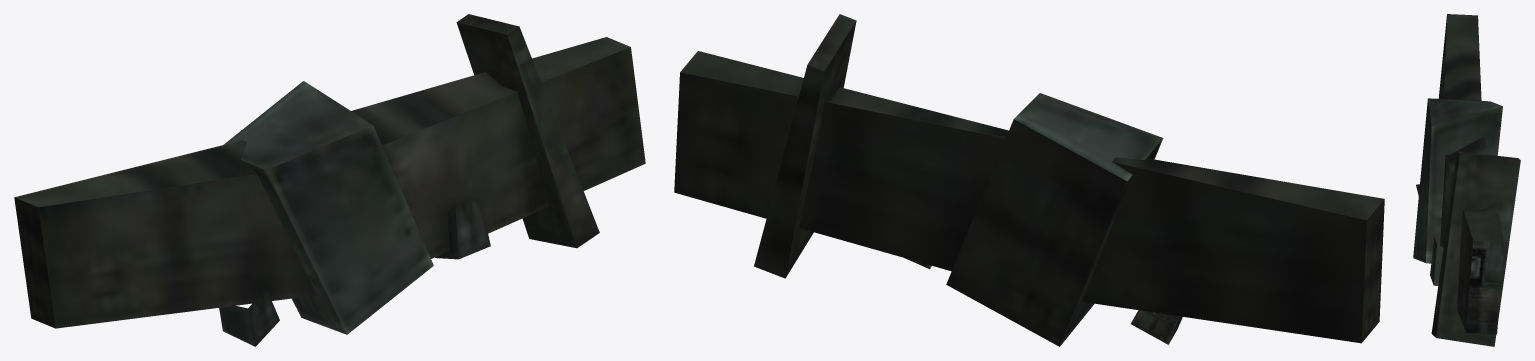
The model's file is vehicle_uni_carrier_blow_piece04.glb.
3 renders of one model, left to right at view 1: azimuth 30°, elevation 25°; view 2: azimuth 150°, elevation 25°; view 3: azimuth 270°, elevation 25°, orthographic. The views are drawn at different scales.
Bounding box in the file's own units: 31.28 × 11.82 × 6.15.
Materials: 1 (1 with a texture image).
